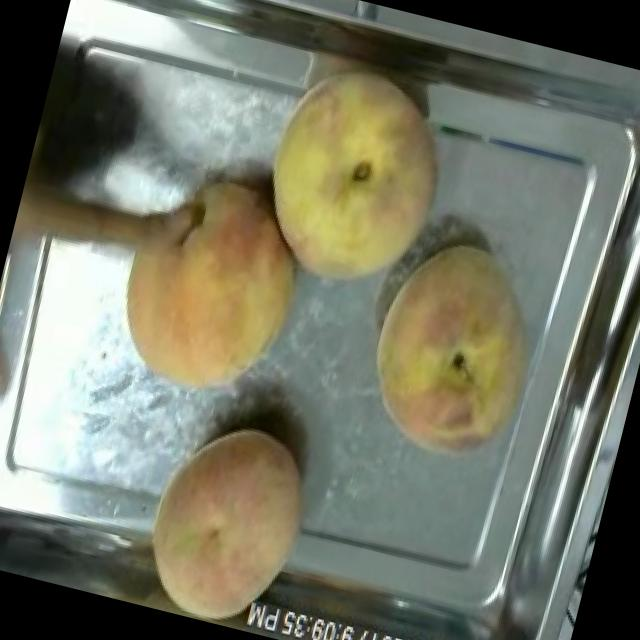Fruit: (90, 154, 328, 420), (234, 46, 470, 312), (343, 220, 568, 482), (122, 400, 333, 640)
